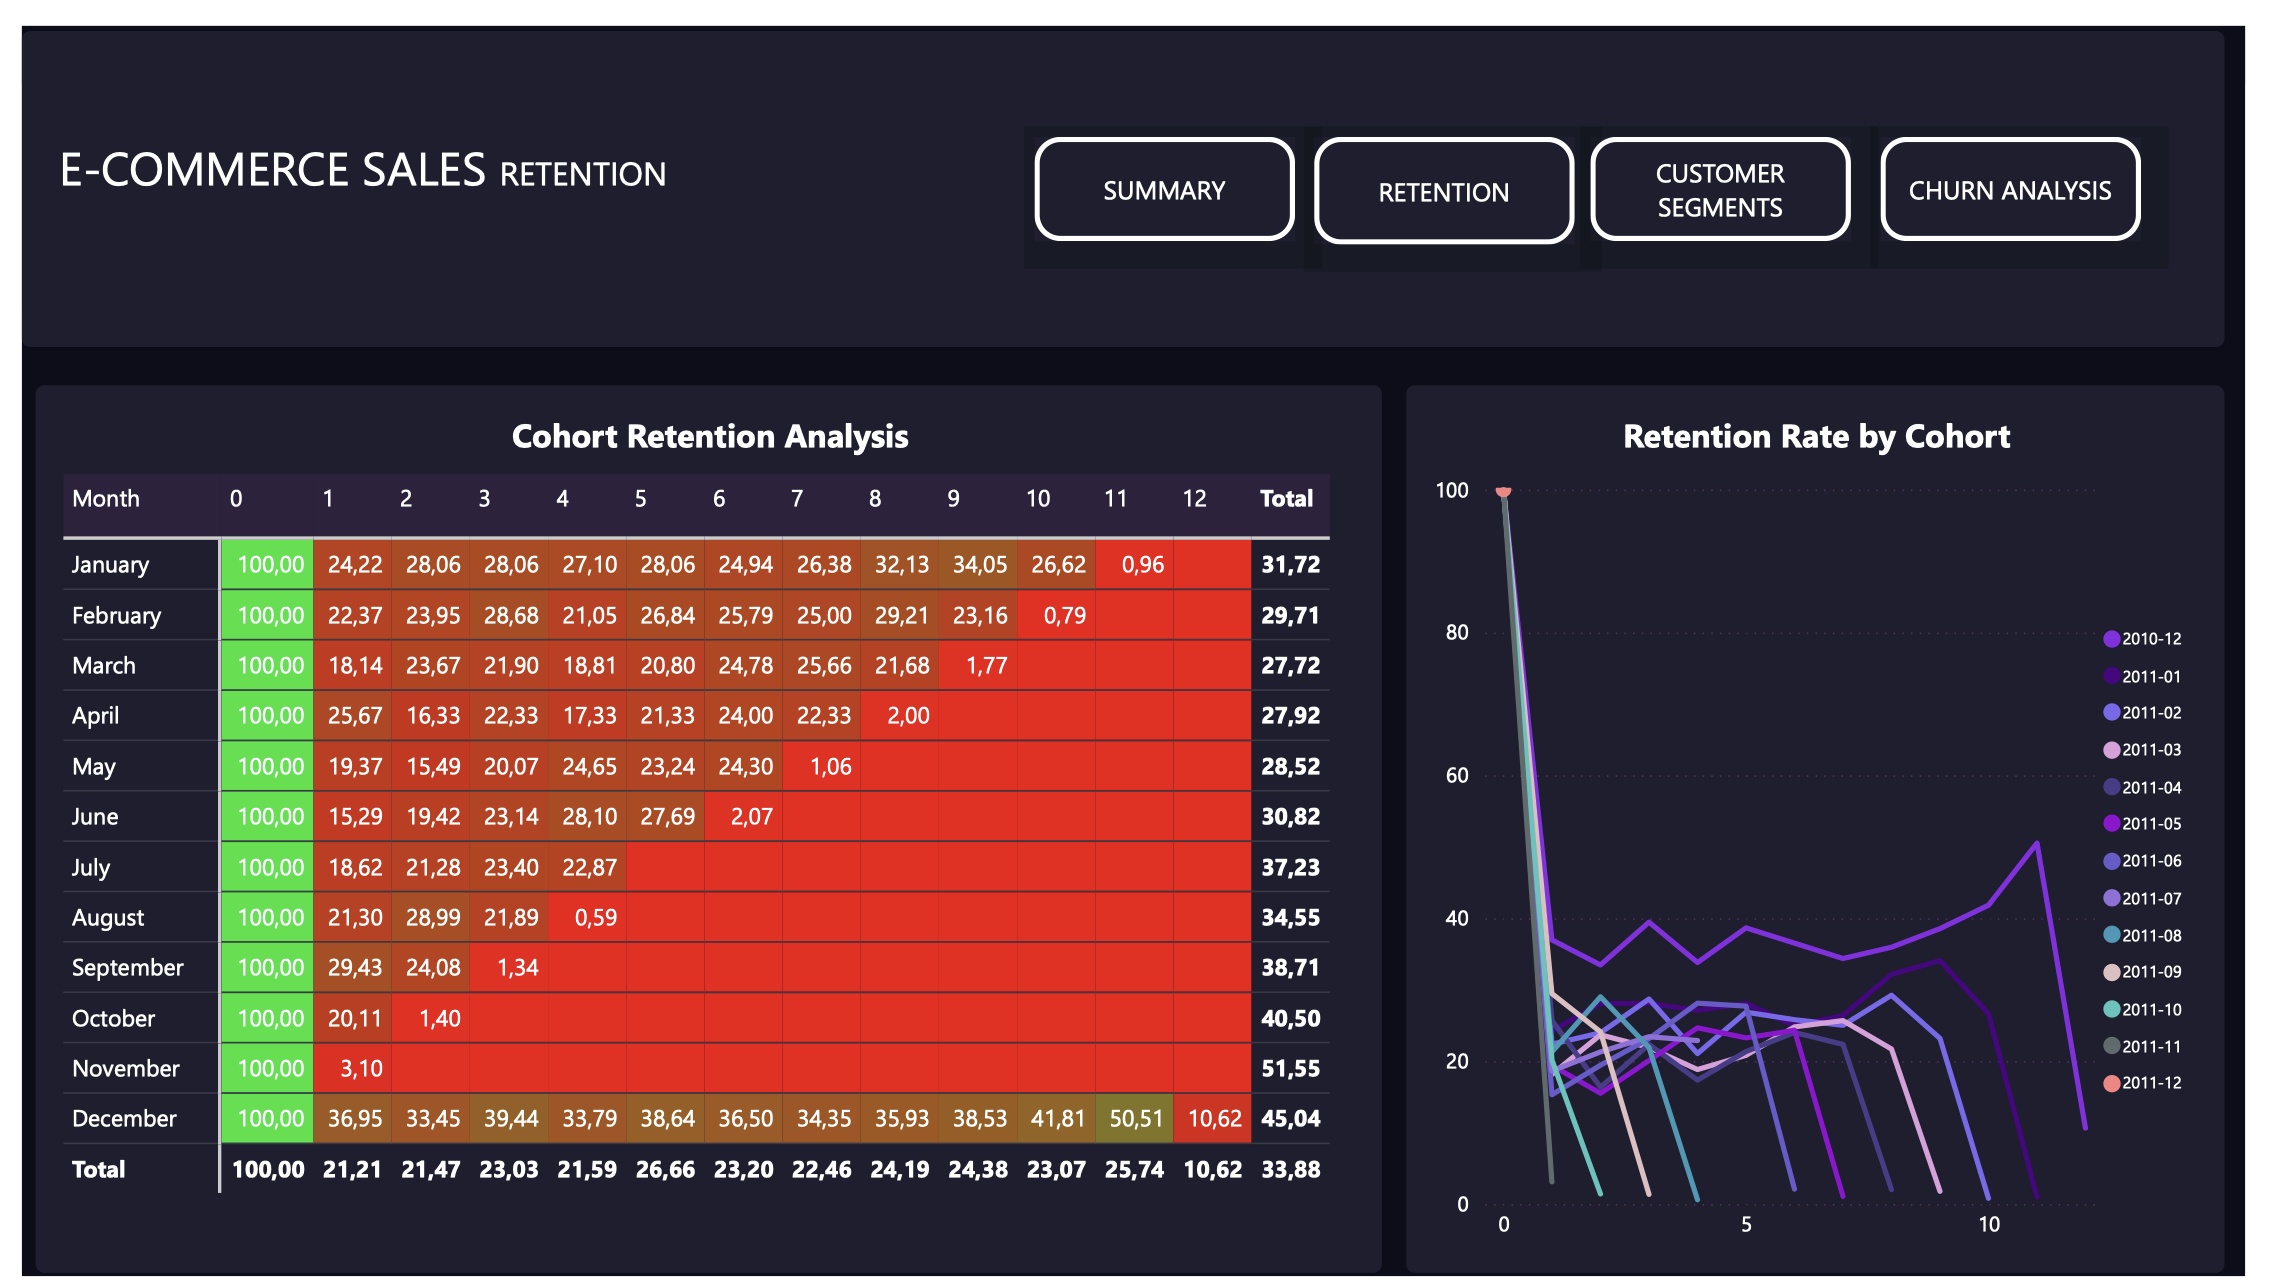

This screenshot's page, from the dashboard's own definition file:
{"tool":"powerbi","page":{"name":"RETENTION","canvas":[1280,720],"ordinal":1},"visuals":[{"type":"shape","box":[0,3.3,1268.3,181.7],"z":0},{"type":"textbox","box":[21.7,63.3,395,61.7],"z":3000},{"type":"actionButton","title":"CUSTOMER SEGMENTS","box":[583.3,64.1,150,60],"z":4000},{"type":"actionButton","title":"CUSTOMER SEGMENTS","box":[743.8,64.1,150,61.7],"z":5000},{"type":"actionButton","title":"CUSTOMER SEGMENTS","box":[903.3,64.1,150,60],"z":6000},{"type":"actionButton","title":"CUSTOMER SEGMENTS","box":[1070,64.1,150,60],"z":7000},{"type":"pivotTable","title":"Cohort Retention Analysis","fields":{"Columns":["Retention_rate_procent_fixed.months_since_first_purchase"],"Values":["Avg(Retention_rate_procent_fixed.retention_rate)"],"Rows":["Retention_rate_procent_fixed.cohort_month.Variation.Date Hierarchy.Month"]},"box":[8.3,206.7,775,511.7],"z":11000},{"type":"lineChart","title":"Retention Rate by Cohort","fields":{"Category":["Retention_rate_procent_fixed.months_since_first_purchase"],"Y":["Avg(Retention_rate_procent_fixed.retention_rate)"],"Series":["Retention_rate_procent_fixed.Cohort Label"]},"box":[796.7,206.7,471.7,511.7],"z":12000}]}

Visuals, with their boxes in screenshot pixels (x1, y1, x2, y2), scaled from the page's 1280x720 canvas onto the 2272x1286 screenshot:
shape: <bbox>0, 6, 2251, 330</bbox>
textbox: <bbox>39, 113, 740, 223</bbox>
"CUSTOMER SEGMENTS" actionButton: <bbox>1035, 114, 1302, 222</bbox>
"CUSTOMER SEGMENTS" actionButton: <bbox>1320, 114, 1586, 225</bbox>
"CUSTOMER SEGMENTS" actionButton: <bbox>1603, 114, 1870, 222</bbox>
"CUSTOMER SEGMENTS" actionButton: <bbox>1899, 114, 2166, 222</bbox>
"Cohort Retention Analysis" pivotTable: <bbox>15, 369, 1390, 1283</bbox>
"Retention Rate by Cohort" lineChart: <bbox>1414, 369, 2251, 1283</bbox>
